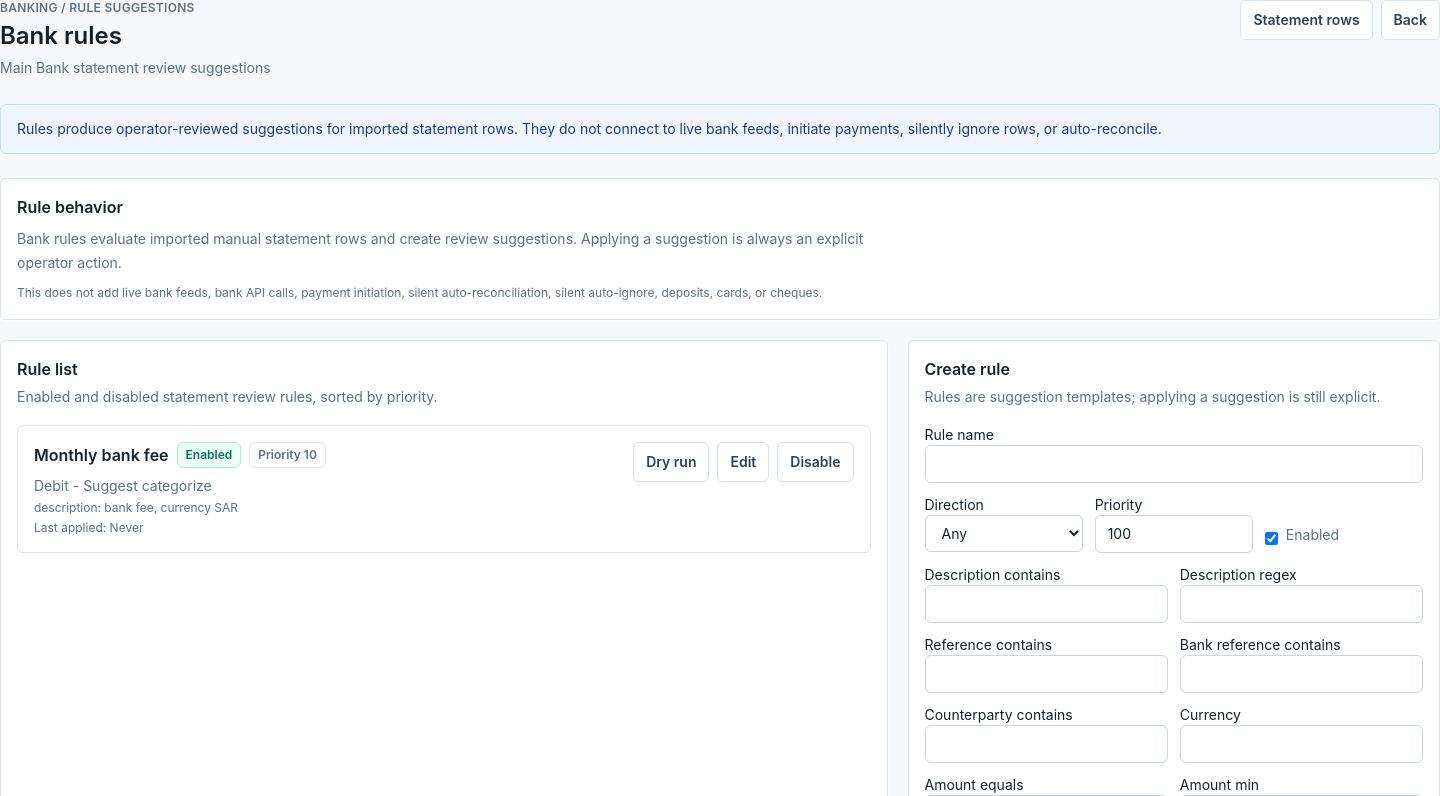
it: BankRulesPage › toggles a rule and displays dry-run suggestions
The image size is (1440, 796).
What coordinates should you click on to do the following:
click the button "Disable"
I would click on:
 (815, 462)
Its box is x1=777 y1=442 x2=854 y2=482.
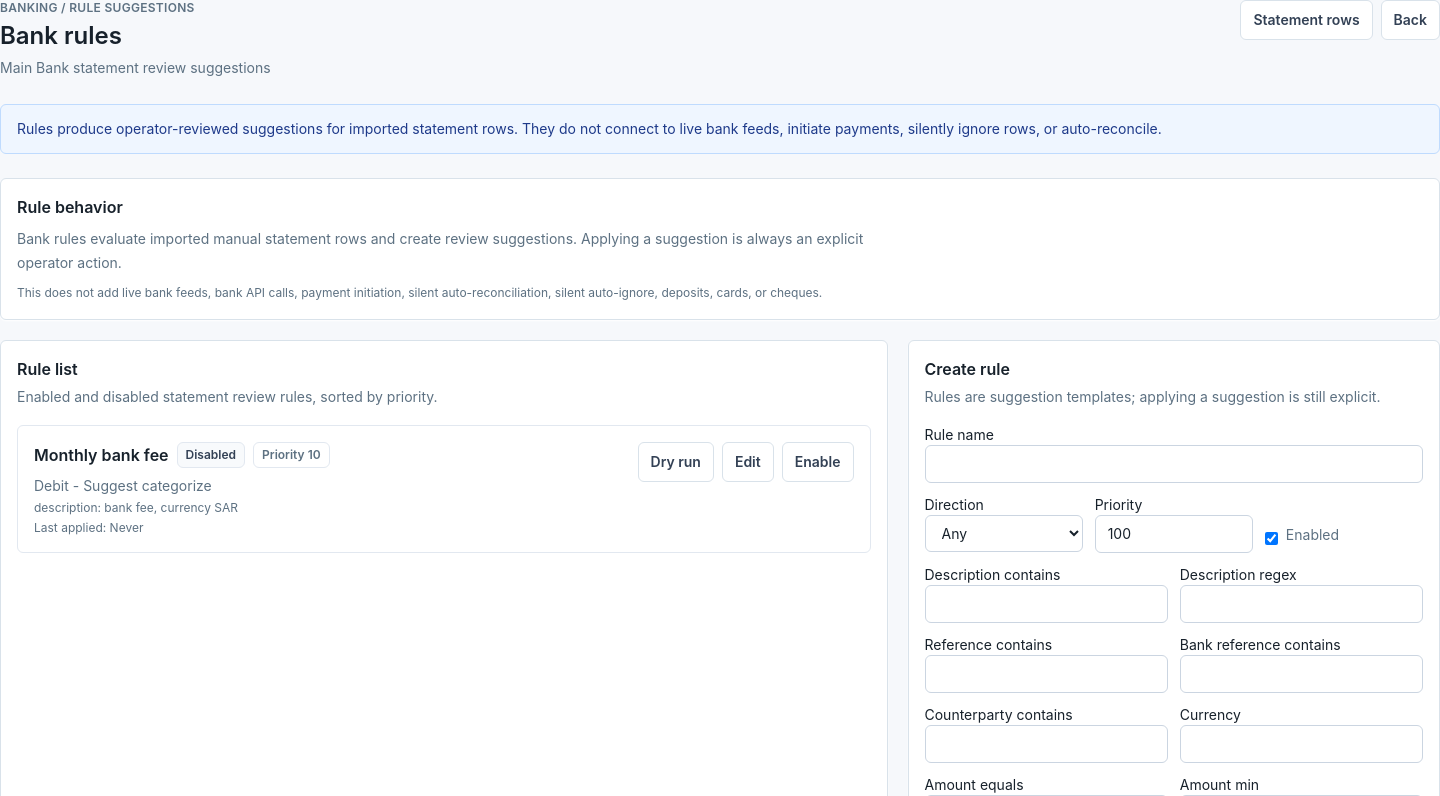
Expected: the button "Enable" is shown, x1=782 y1=442 x2=854 y2=482
What coordinates should you click on to do the following:
click the button "Dry run"
I would click on:
 (676, 462)
Its box is x1=638 y1=442 x2=714 y2=482.
(page scrolled)
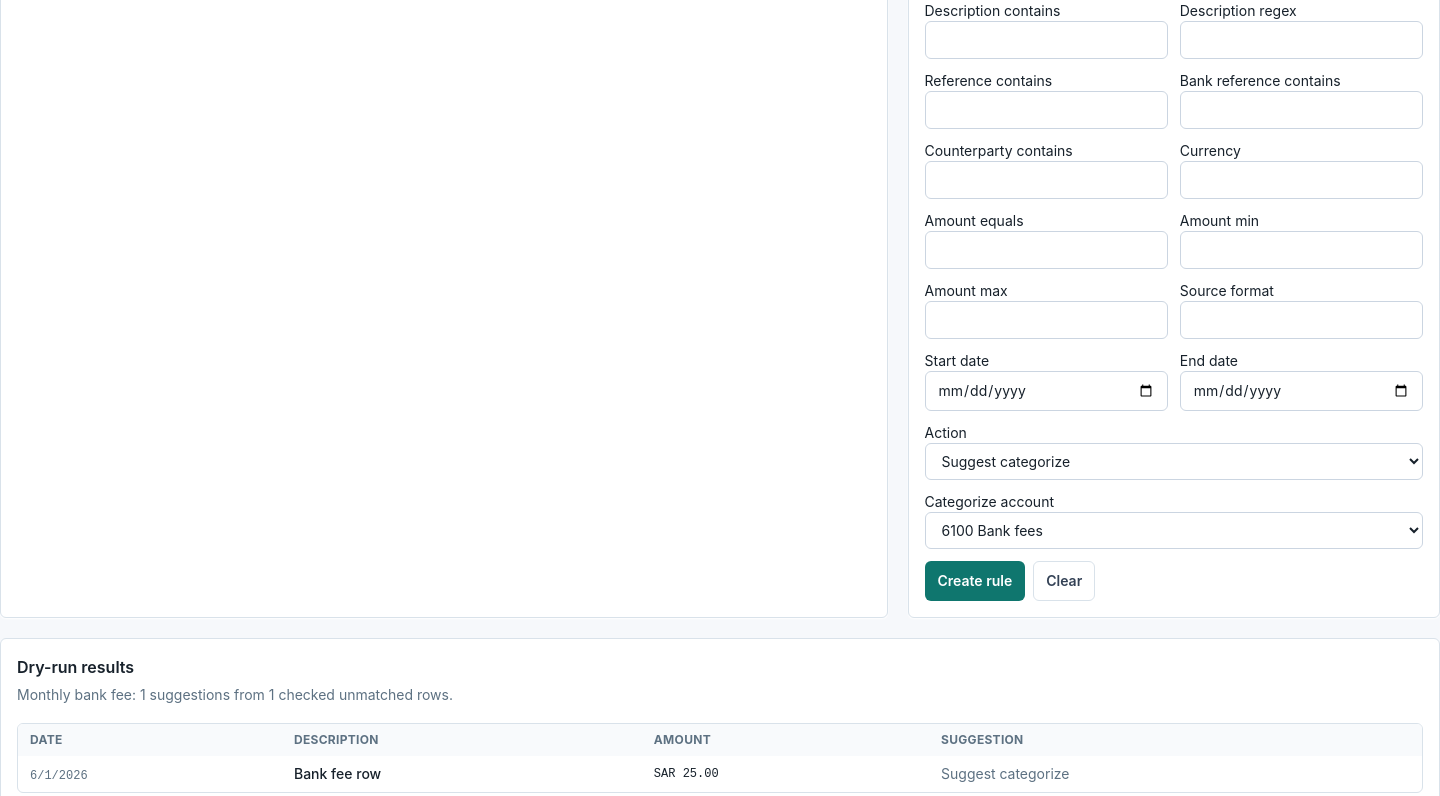
Expected: the heading "Dry-run results" is shown, x1=17 y1=657 x2=134 y2=677
Expected: the text "Monthly bank fee: 1 suggestions from 1 checked unmatched rows." is shown, x1=17 y1=683 x2=453 y2=707
Expected: the text "Bank fee row" is shown, x1=282 y1=756 x2=642 y2=792
